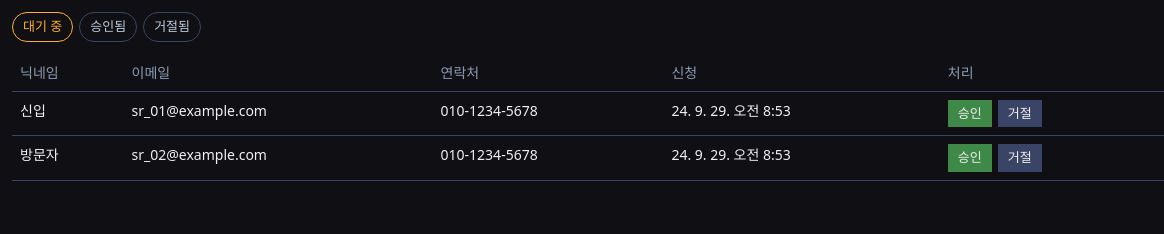
SignupsPanel › 대기 신청을 승인하면 안내하고 목록을 다시 받는다
Click the button "승인" in the row of "신입" at (970, 113), box [948,100,992,127]
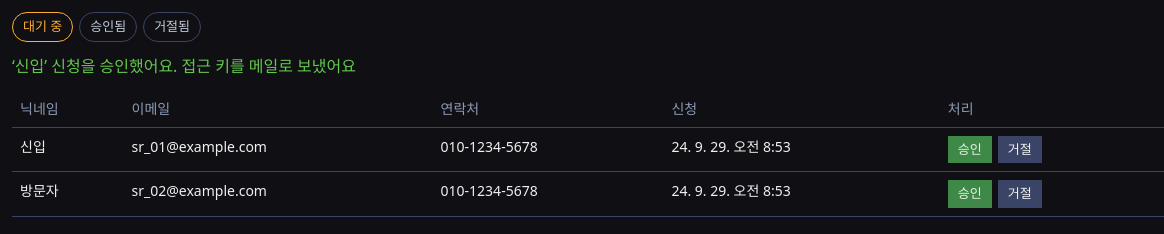
Expected: the message shows "‘신입’ 신청을 승인했어요", [12,54,356,76]
